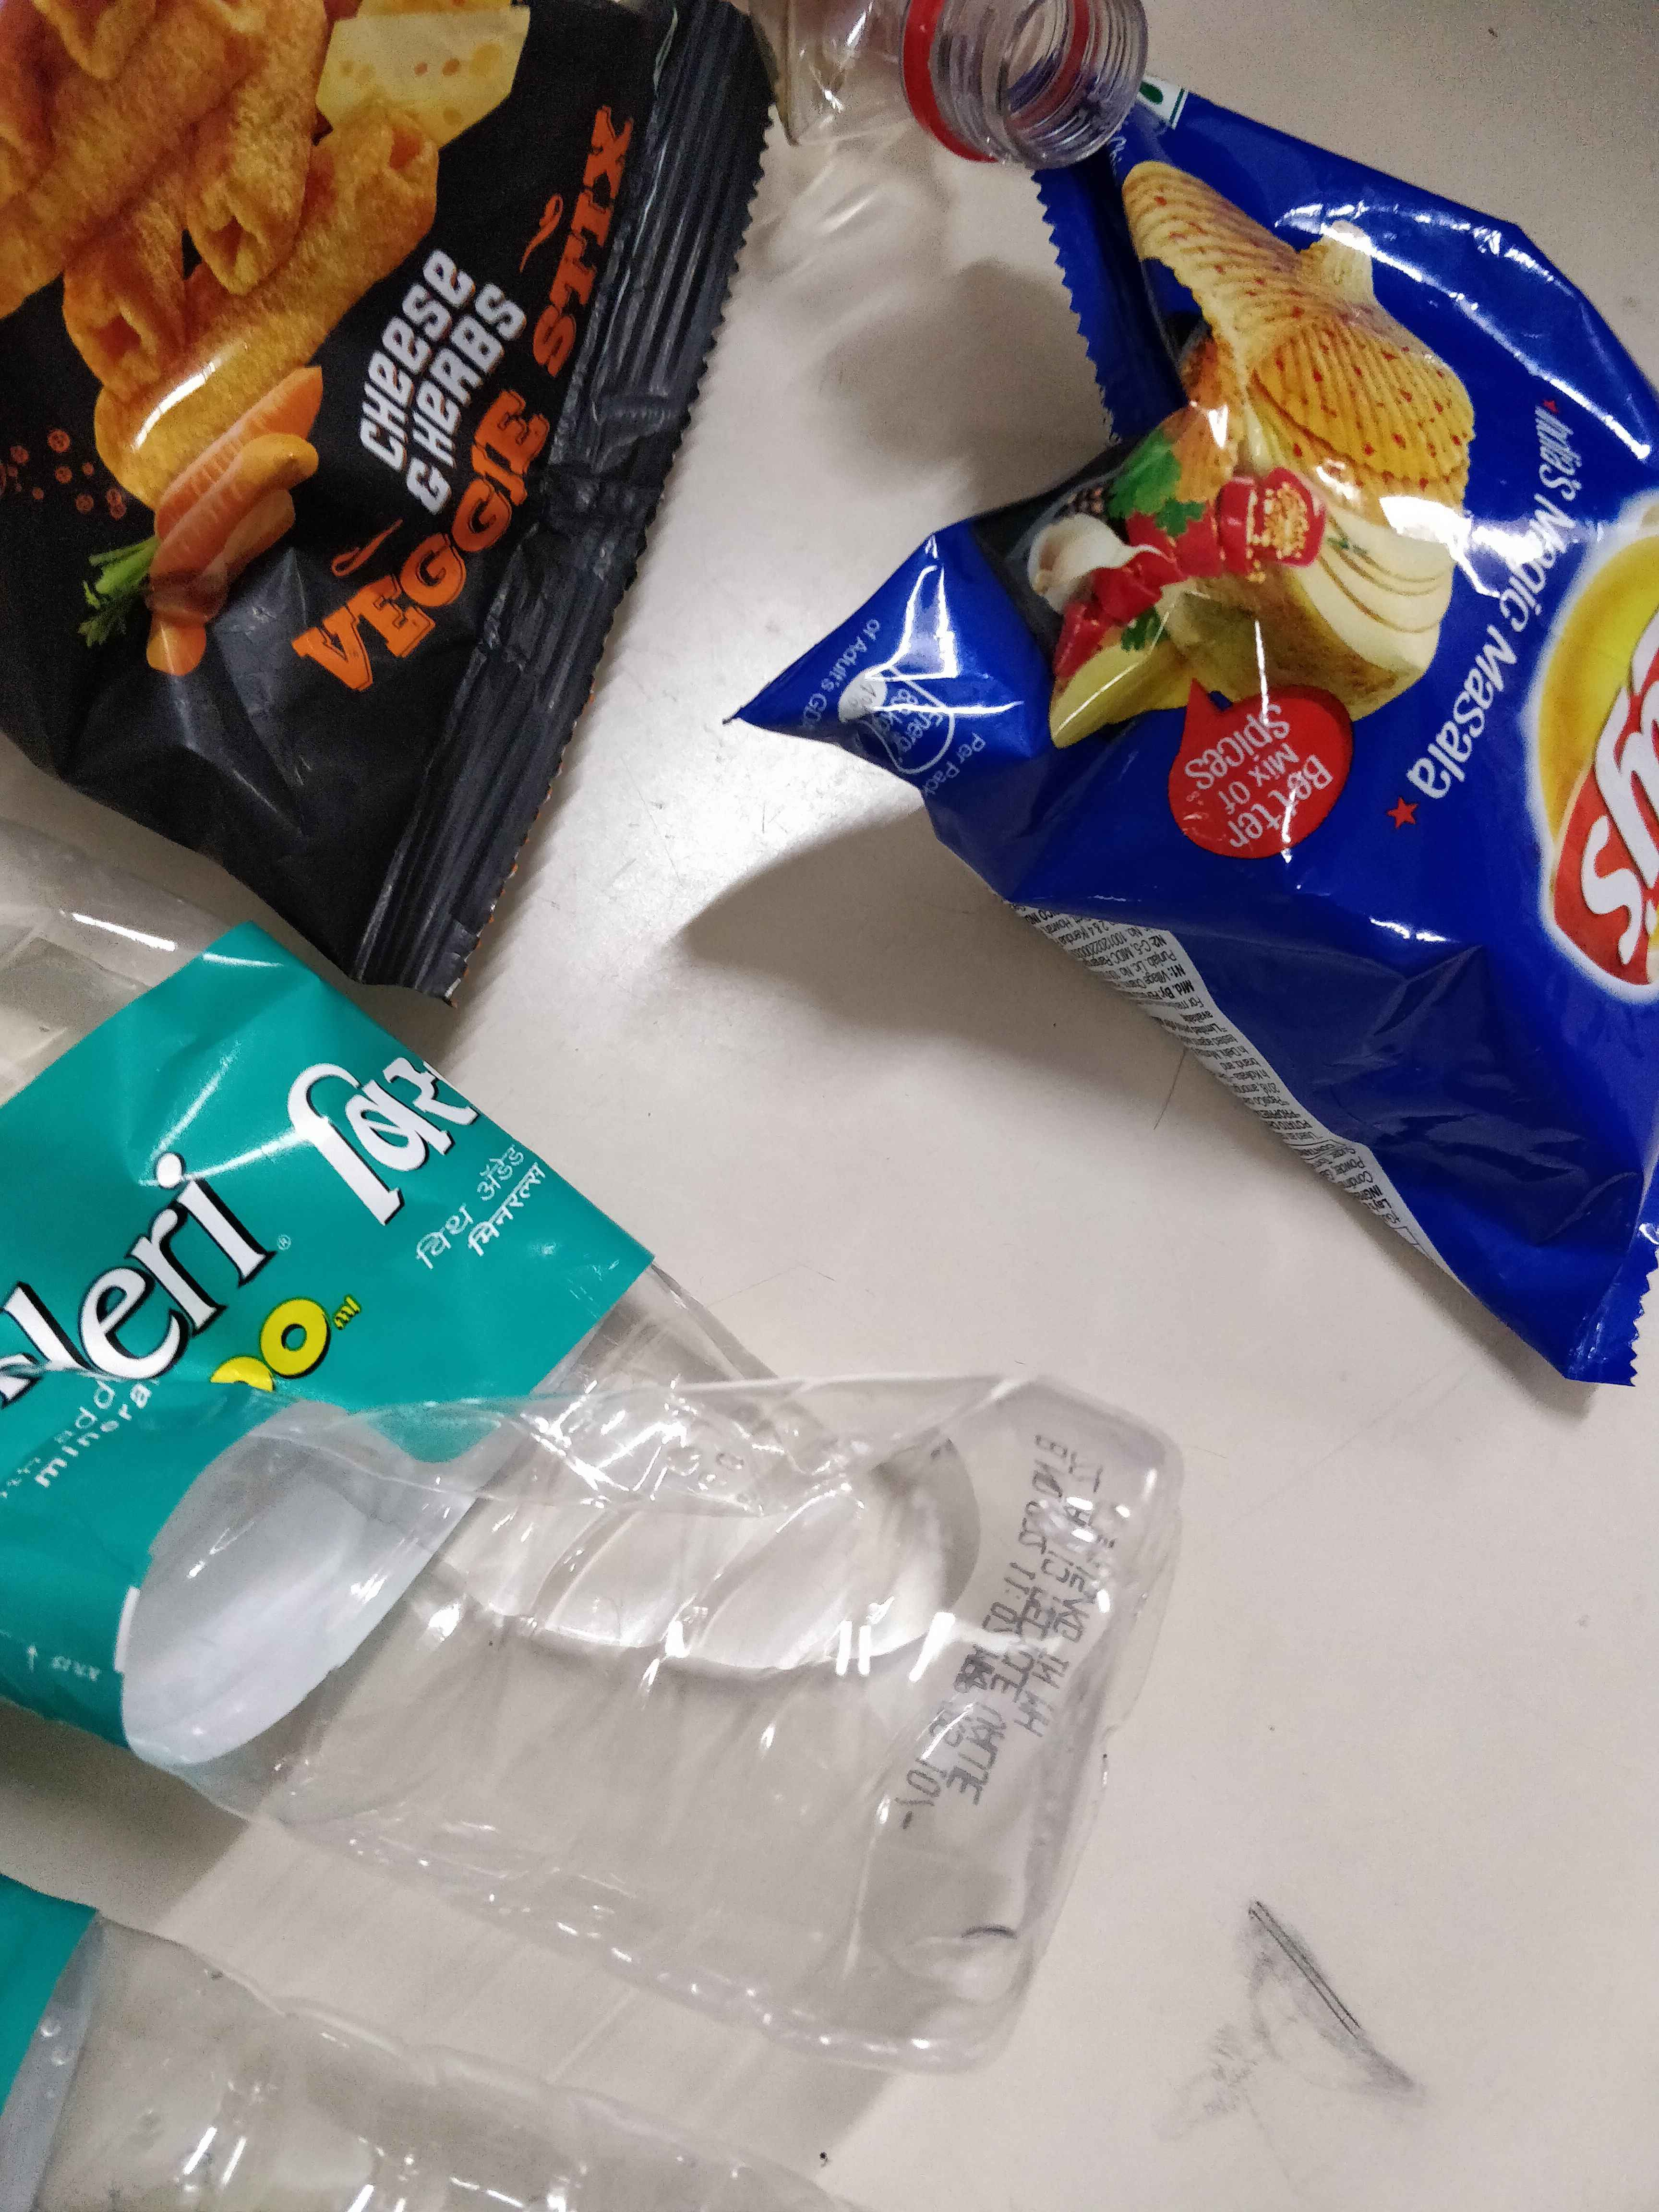Bisleri: (10, 1049, 490, 1519)
Lays: (1499, 498, 1659, 934)
